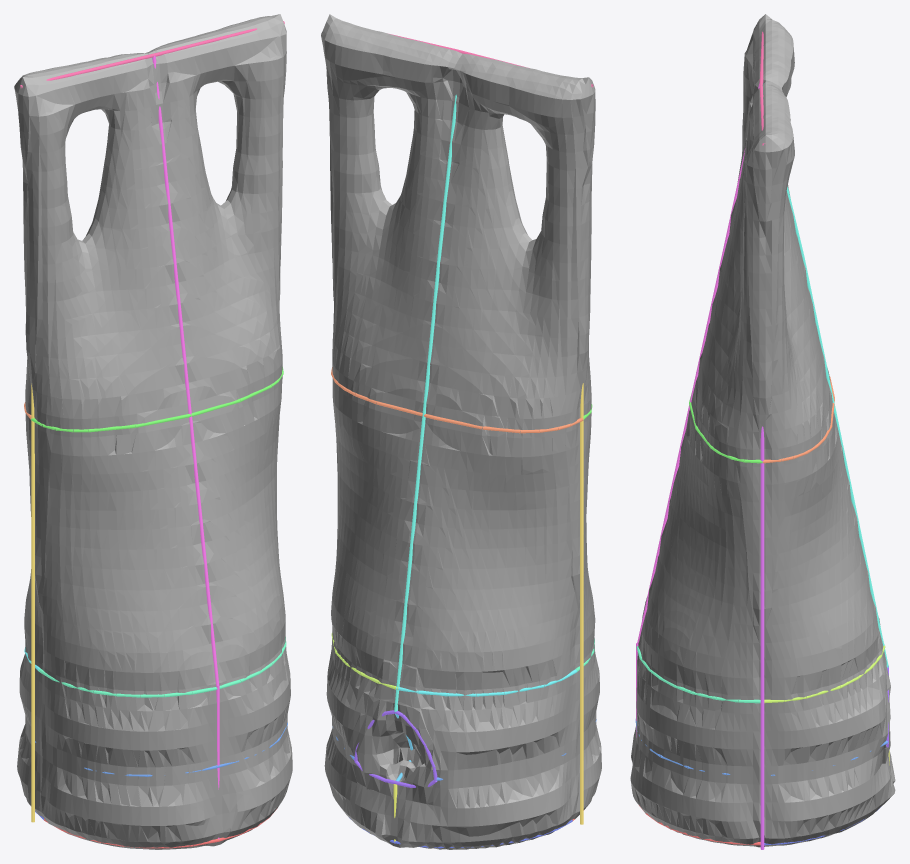
The model's file is t2f_toothpaste.gltf.
The picture shows the model from 3 angles, left to right: view 1: azimuth 30°, elevation 25°; view 2: azimuth 150°, elevation 25°; view 3: azimuth 270°, elevation 25°; orthographic projection. The views are drawn at different scales.
Size of the model in its own units: 0.3395 by 0.9221 by 0.3032.
